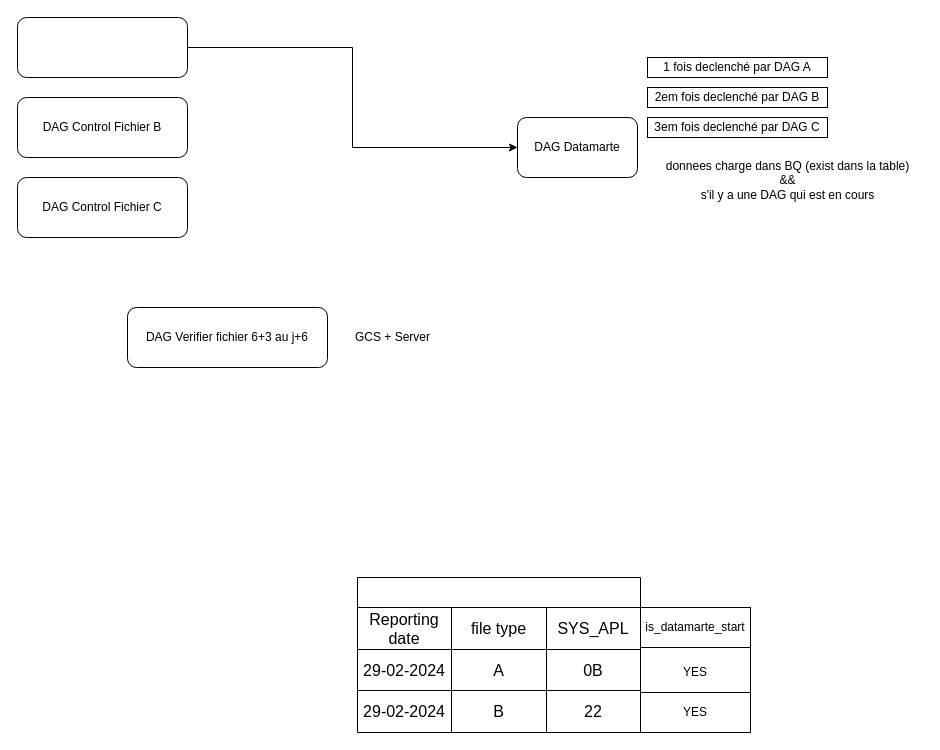
The diagram is 940 pixels wide and 750 high, and some of its shapes have lost their labels. The shapes that lost their labels are listed below. From the top down, each one's box as (x1, y1, x2, y2) in pixels, then its label:
(16, 16, 188, 78): DAG Control Fichier A
(356, 576, 640, 732): T_progress_chargement_fichier
